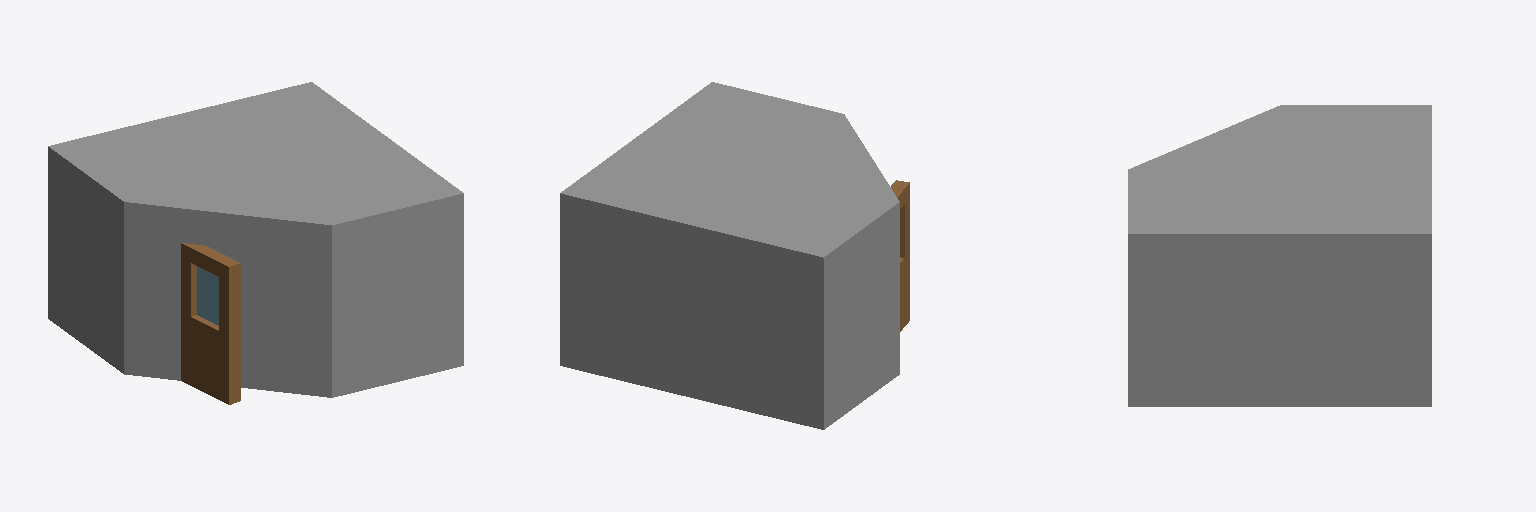
Rendered from modularBuildings_038a.obj.
3 renders of one model, left to right at view 1: azimuth 30°, elevation 25°; view 2: azimuth 150°, elevation 25°; view 3: azimuth 270°, elevation 25°, orthographic.
Parts seen in each view (by area): view 1: Mesh1_Group1_Model.001; view 2: Mesh1_Group1_Model.001; view 3: Mesh1_Group1_Model.001.
Part boxes in pixels (x1,y1,x2,y2): Mesh1_Group1_Model.001: (48,82,463,404); Mesh1_Group1_Model.001: (560,82,909,429); Mesh1_Group1_Model.001: (1128,105,1431,406).
Bounding box in the file's own units: 1 × 0.625 × 1.